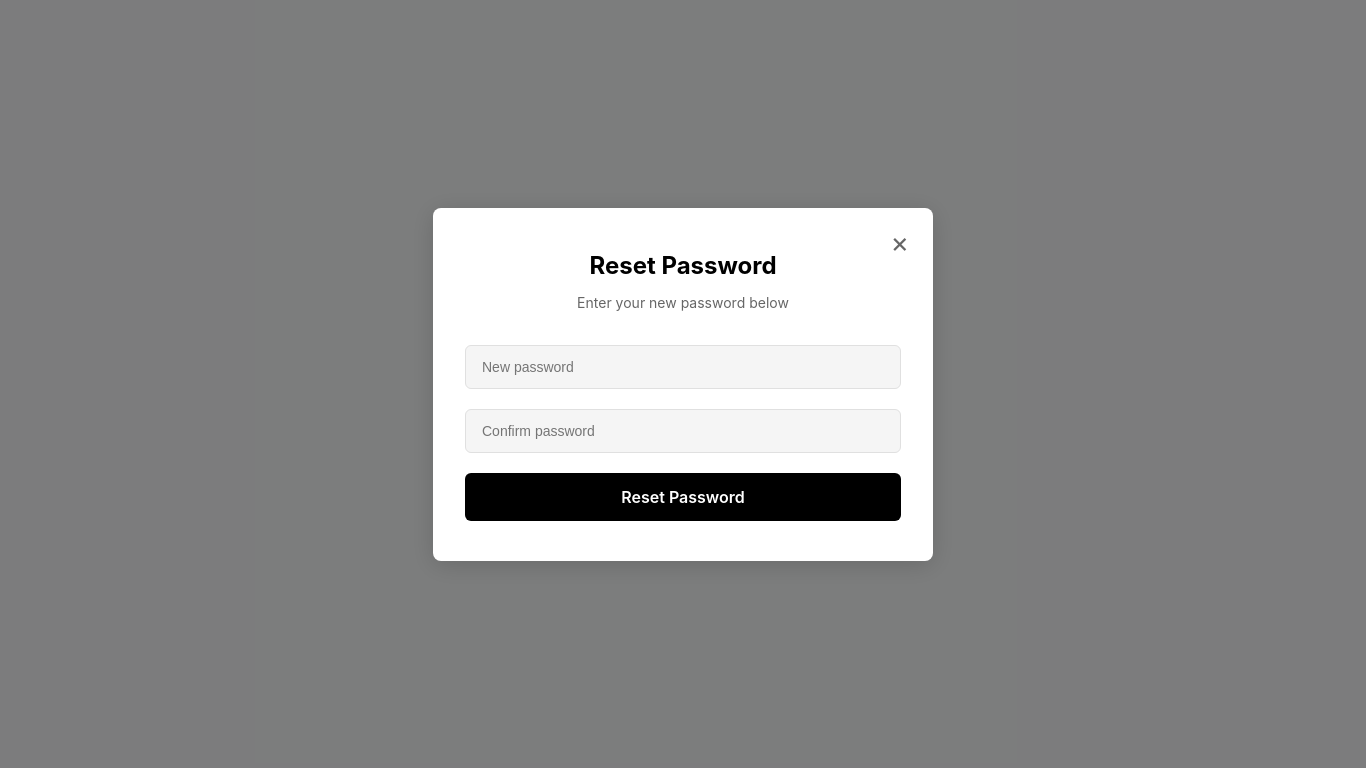
Authentication Components › ResetPasswordModal › validates password match
In the password field with placeholder "New password": (683, 366) x1=465 y1=344 x2=901 y2=388, type "Test123!@"
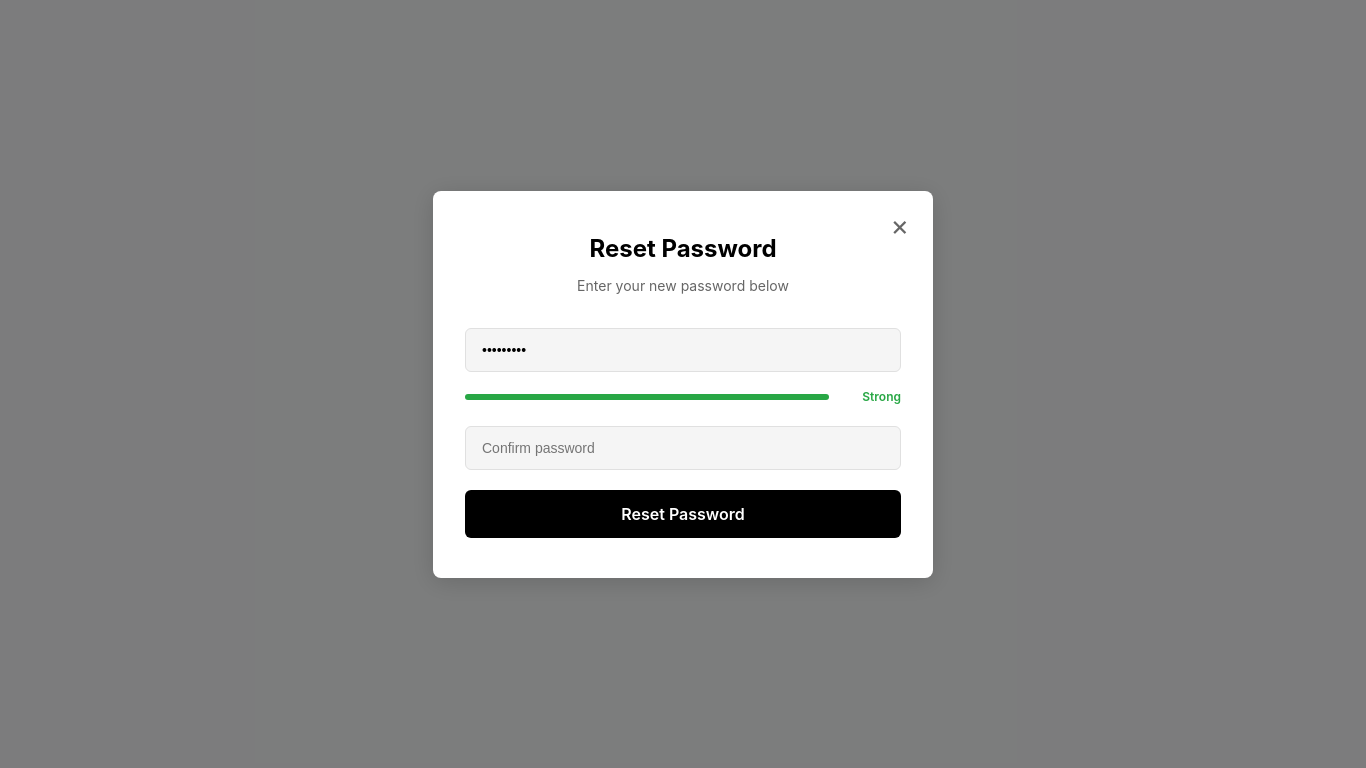
In the password field with placeholder "Confirm password": (683, 448) x1=465 y1=426 x2=901 y2=470, type "Different123!"
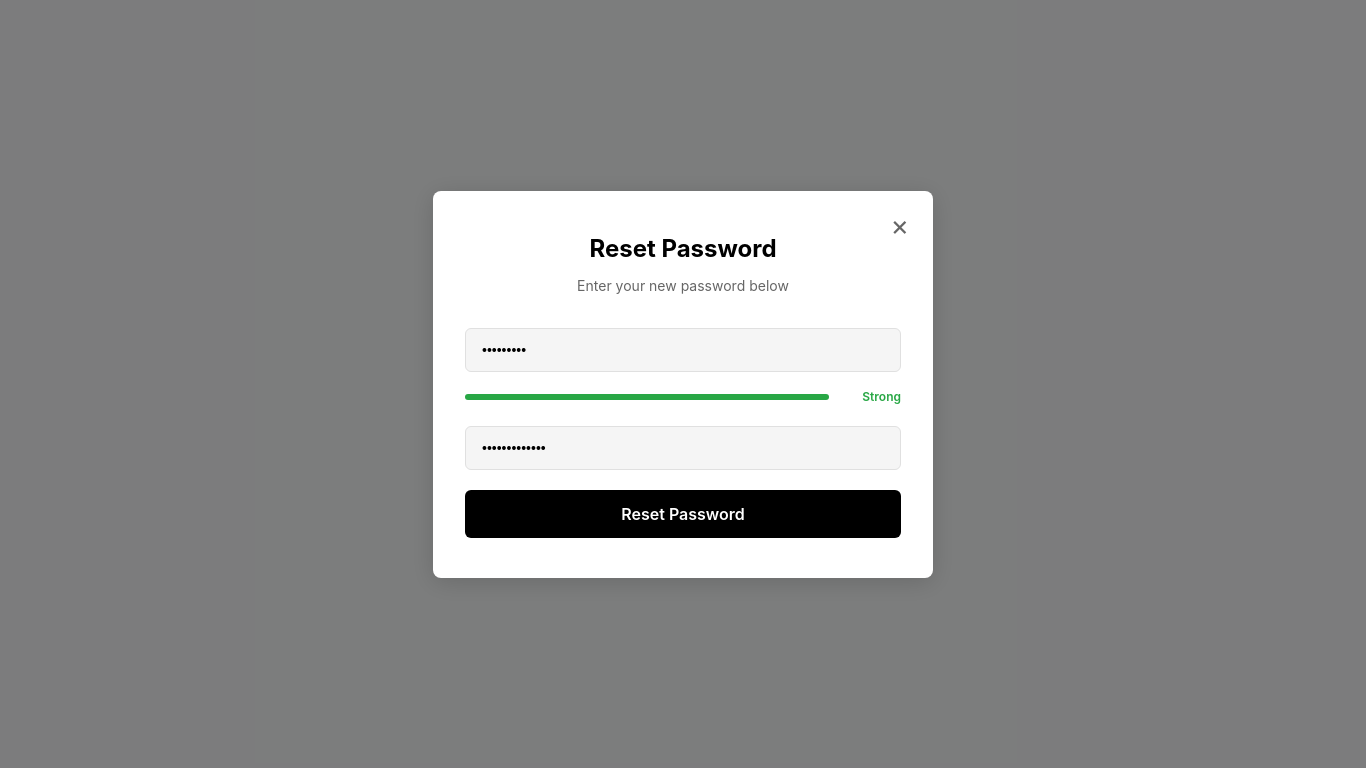
Click the button "Reset Password": (683, 514) x1=465 y1=490 x2=901 y2=538
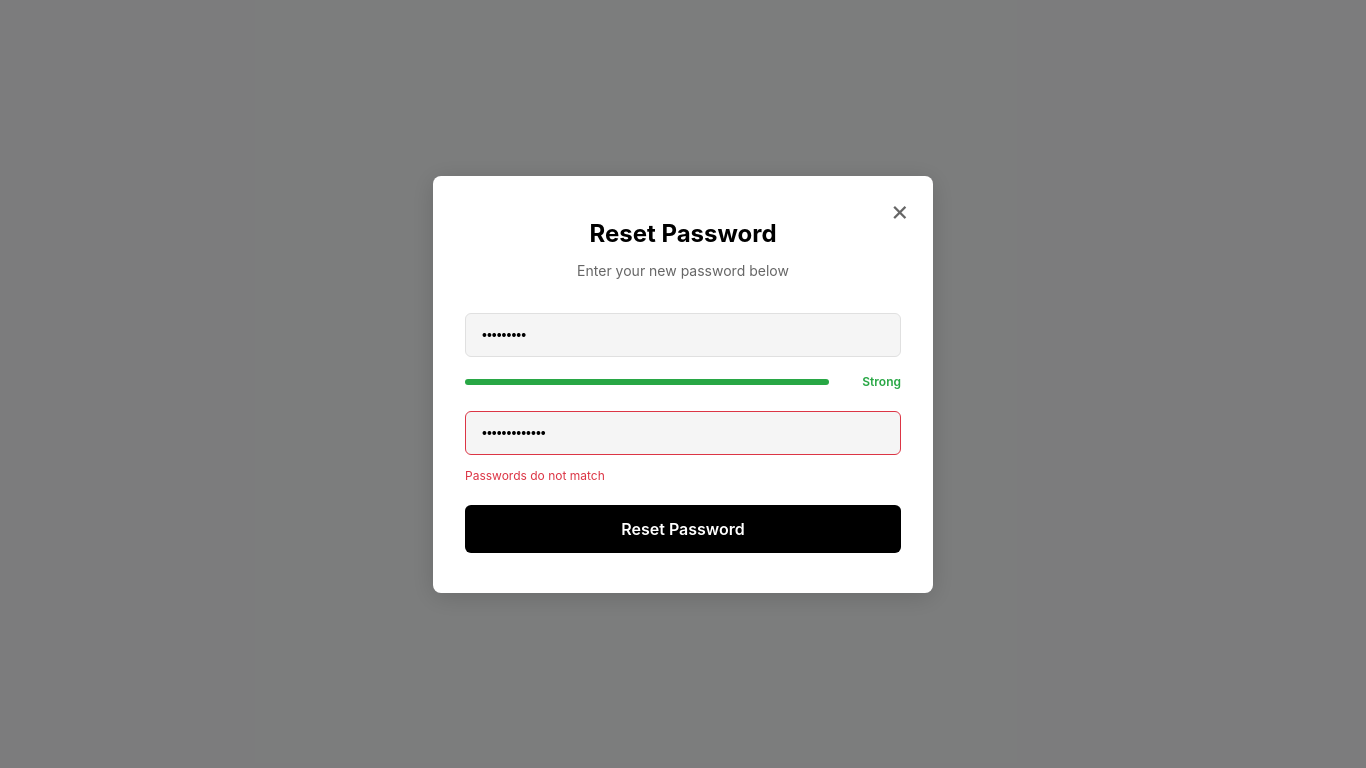
Expected: the text "Passwords do not match" is shown, x1=465 y1=468 x2=605 y2=482
